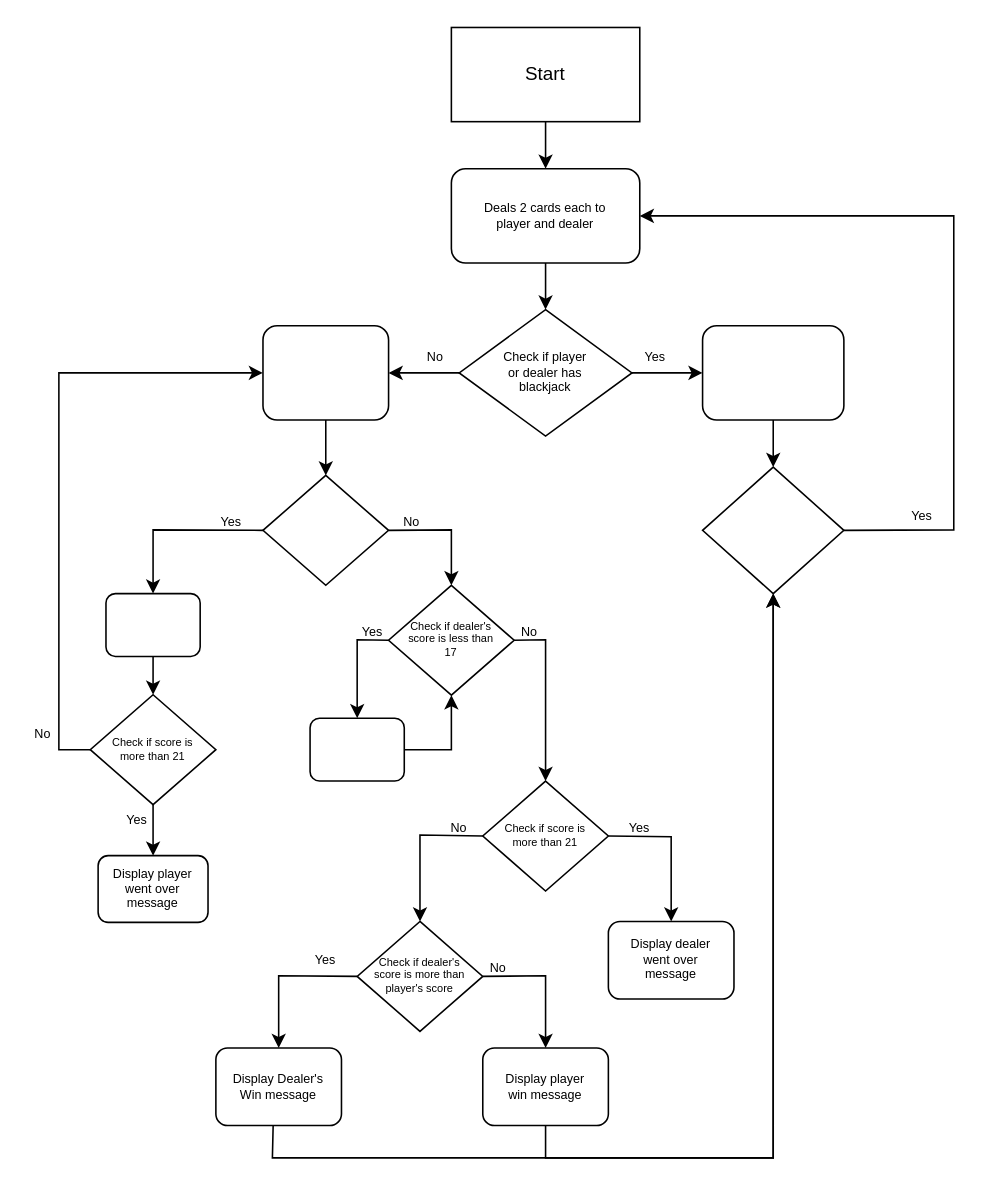
The diagram is 994 pixels wide and 1198 high, and some of its shapes have lost their labels. Each missing label, with the box of its shape:
Add card for dealer: (309, 717, 404, 781)
Add card for player: (104, 592, 200, 656)
Ask player if he wants to draw a card: (261, 474, 389, 585)
Ask player if he wants to play again: (701, 466, 844, 594)
Declare player or dealer with blackjack win: (701, 324, 844, 420)
Display player's hand: (261, 324, 389, 420)
